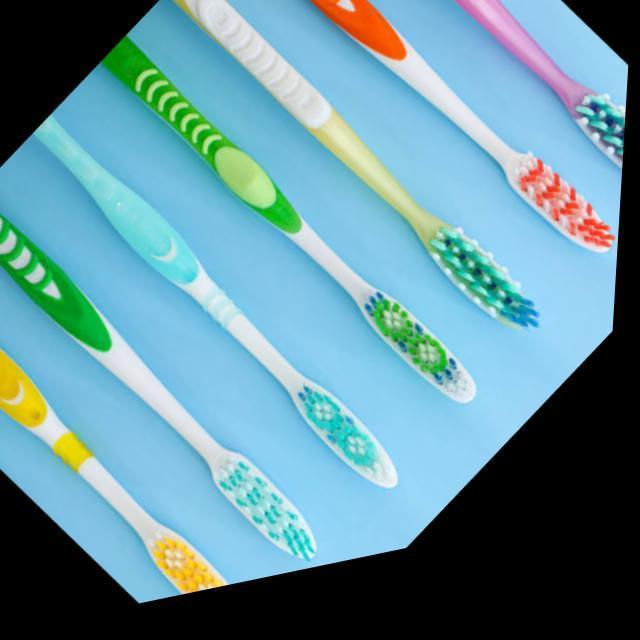toothbrush: (0, 49, 448, 587), (78, 0, 518, 502), (137, 0, 580, 436), (0, 126, 368, 640), (206, 0, 640, 368), (0, 191, 304, 640), (271, 0, 640, 312)
